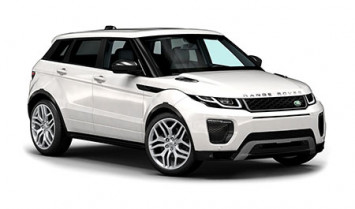pickup: (26, 23, 326, 175)
